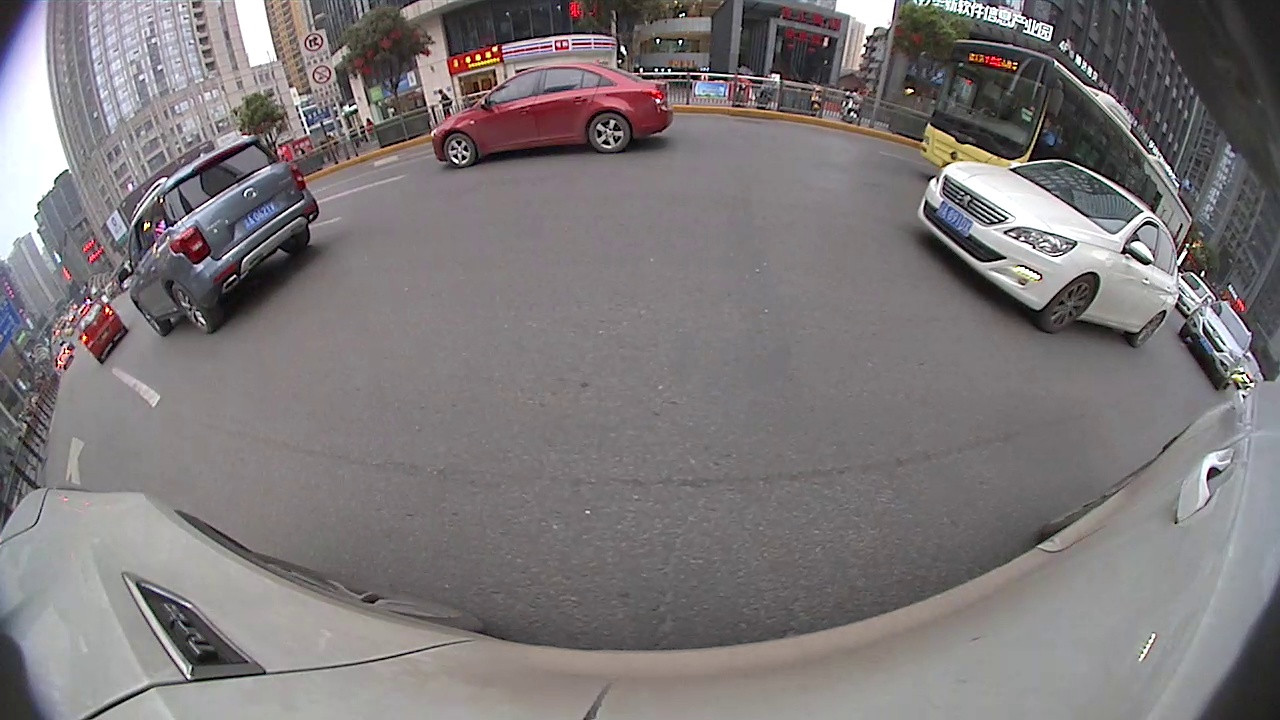bus: (916, 30, 1194, 249)
car: (915, 158, 1179, 349), (113, 138, 321, 336), (427, 60, 676, 168), (1178, 296, 1253, 389)
front: (1041, 272, 1096, 332), (440, 132, 478, 169)
rear: (169, 281, 220, 339), (586, 112, 631, 154), (1131, 310, 1167, 349)
rider: (74, 297, 130, 366)
